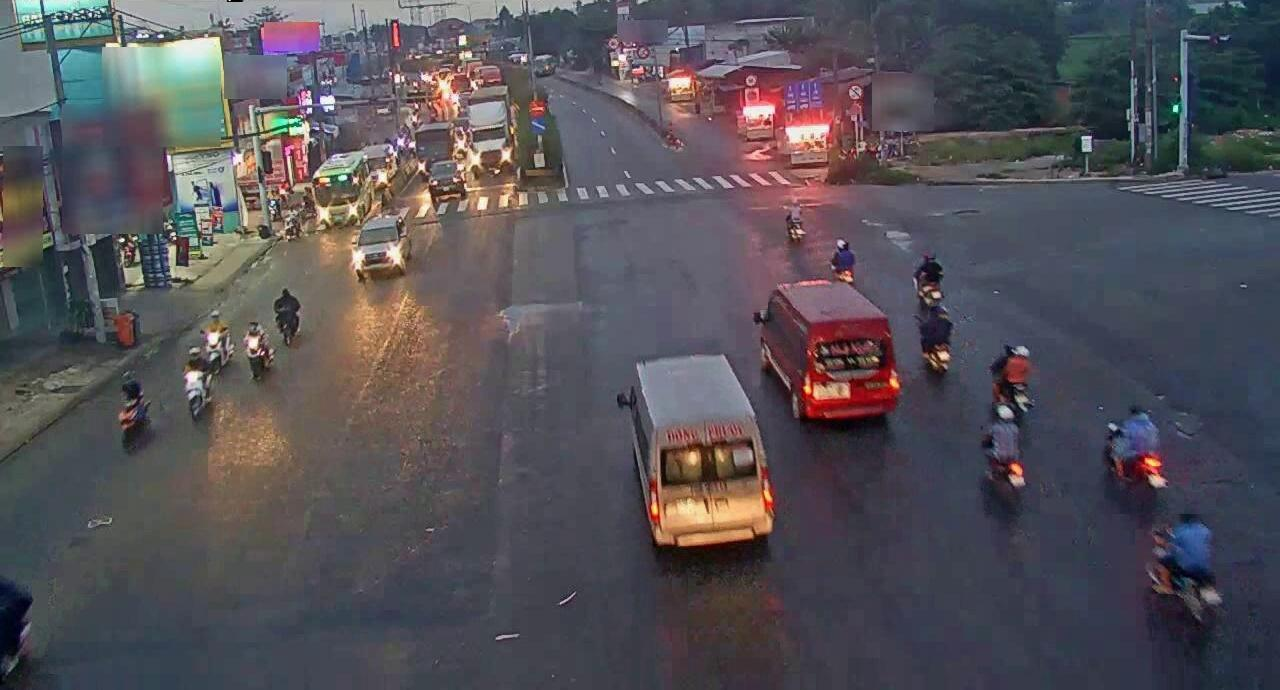xe hoi: (354, 212, 407, 273)
xe may: (1140, 513, 1228, 654), (1095, 395, 1171, 511), (975, 403, 1030, 516), (988, 338, 1035, 421), (111, 362, 153, 452), (918, 303, 957, 373), (181, 345, 214, 417), (271, 285, 304, 348), (828, 233, 857, 287), (782, 195, 806, 241)
xe van: (614, 329, 795, 568), (753, 274, 914, 438)
